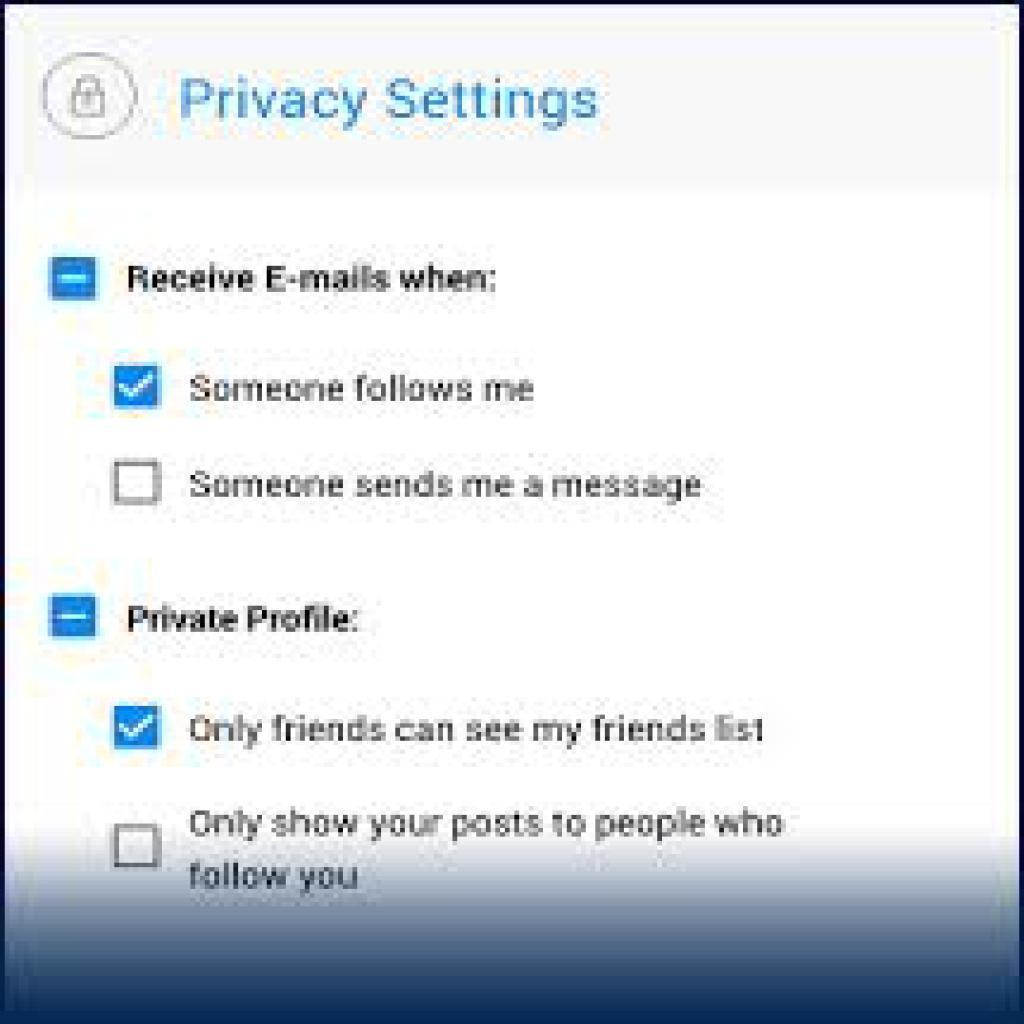checkbox: (111, 363, 166, 410), (112, 703, 161, 752), (113, 459, 163, 505), (112, 823, 159, 864)
